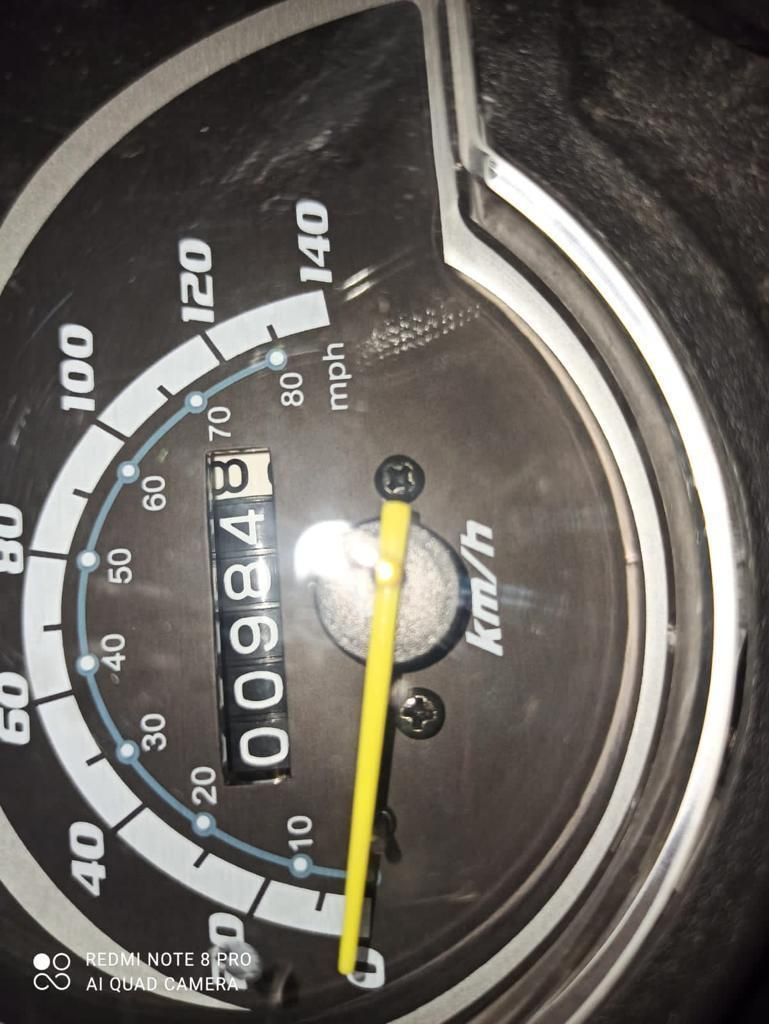0: (229, 719, 288, 771), (227, 669, 288, 710), (188, 762, 218, 786)
4: (218, 504, 270, 545)
8: (218, 555, 276, 598), (202, 454, 256, 497)
9: (223, 608, 281, 655)
odometer: (191, 447, 295, 789)
